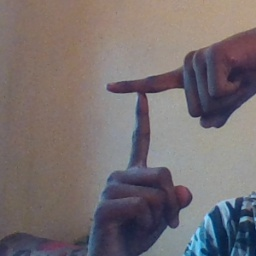T: (94, 54, 206, 188)
